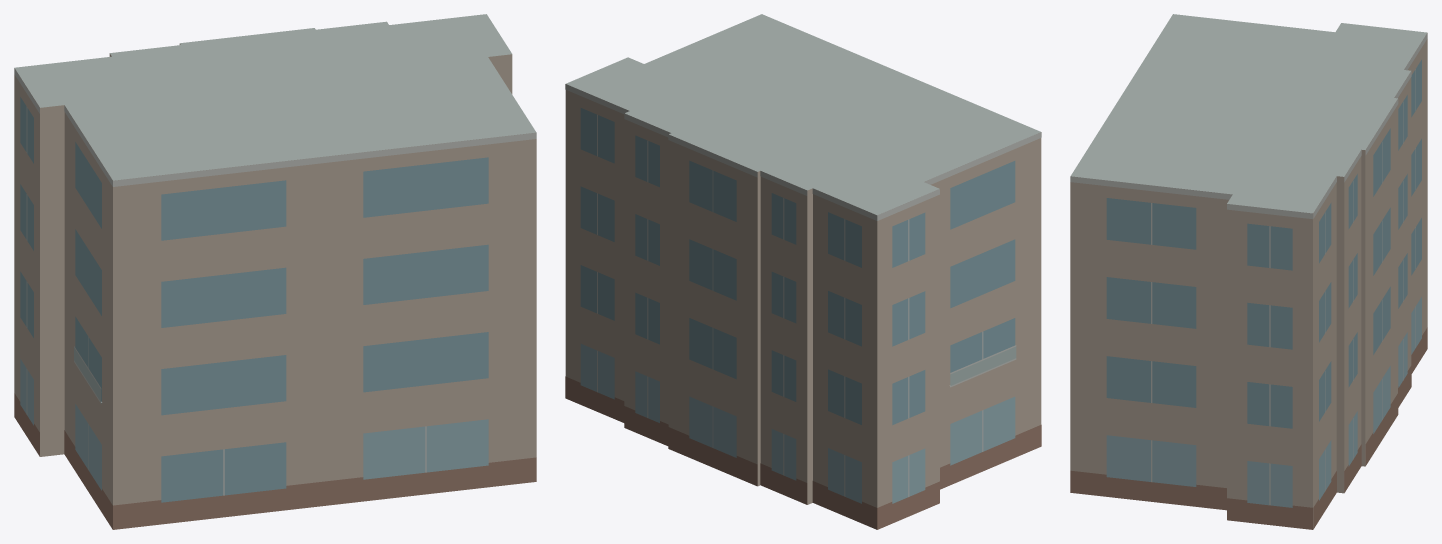
Rendered from survey-upis-32943464.glb.
3 views of the same model, side by side, from view 1: azimuth 30°, elevation 25°; view 2: azimuth 150°, elevation 25°; view 3: azimuth 270°, elevation 25° (orthographic). The views are drawn at different scales.
Parts seen in each view (by area): view 1: survey-upis-32943464.tmp; view 2: survey-upis-32943464.tmp; view 3: survey-upis-32943464.tmp.
Boxes of the visible parts, x1,y1,x2,y2 form: survey-upis-32943464.tmp: [14, 14, 536, 529]; survey-upis-32943464.tmp: [565, 14, 1041, 529]; survey-upis-32943464.tmp: [1070, 14, 1427, 529].
Size of the model in its own units: 18.04 by 13.34 by 13.66.
